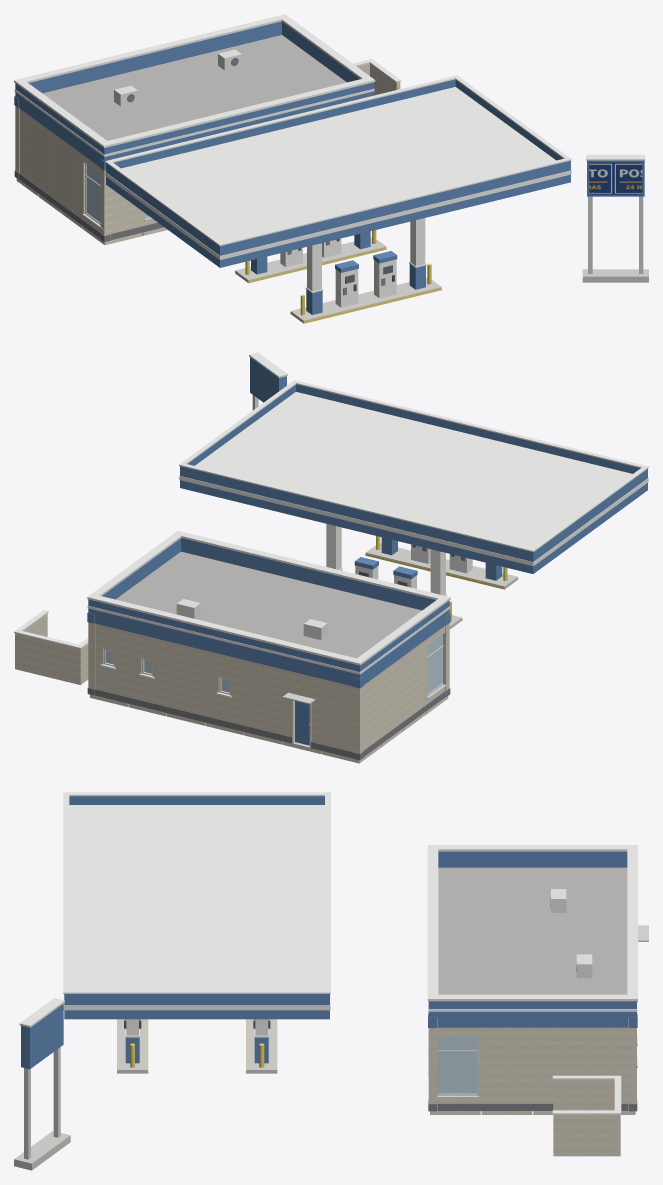
The model's file is building_assembled.glb.
The picture shows the model from 3 angles, top to bottom: view 1: azimuth 30°, elevation 25°; view 2: azimuth 150°, elevation 25°; view 3: azimuth 270°, elevation 25°; orthographic projection. The views are drawn at different scales.
Parts seen in each view (by area): view 1: building_trim, building_band, building_roof, building_block, building_concrete, building_pump, building_sign, building_dark, building_bollard, building_alu, building_metal, building_glass (+1 smaller); view 2: building_trim, building_band, building_block, building_roof, building_dark, building_concrete, building_plaster, building_glass, building_pump, building_metal, building_door; view 3: building_trim, building_roof, building_band, building_block, building_concrete, building_glass, building_alu, building_dark, building_metal, building_plaster.
Part boxes in pixels (x1,y1,x2,y2): building_trim: (14,14,645,293); building_band: (14,21,644,314); building_roof: (43,35,346,140); building_block: (15,63,400,239); building_concrete: (19,179,648,322); building_pump: (280,238,396,307); building_sign: (589,162,642,194); building_dark: (14,58,385,295); building_bollard: (235,230,441,323); building_alu: (82,163,643,273); building_metal: (114,49,241,106); building_glass: (86,164,148,222); building_trim: (14,352,648,697); building_band: (87,357,647,688); building_block: (15,613,449,753); building_roof: (116,551,421,658); building_dark: (87,547,464,760); building_concrete: (244,543,517,758); building_plaster: (90,694,448,763); building_glass: (105,634,442,693); building_pump: (355,544,472,588); building_metal: (176,599,327,725); building_door: (295,701,309,745); building_trim: (19,792,637,1114); building_roof: (438,867,627,994); building_band: (21,796,637,1069); building_block: (428,1017,636,1156); building_concrete: (14,1019,277,1170); building_glass: (437,1036,476,1093); building_alu: (24,925,648,1159); building_dark: (125,897,637,1111); building_metal: (551,889,592,978); building_plaster: (430,1111,635,1114).
Bounding box in the file's own units: 21.68 × 6.28 × 24.6.
21 materials, 3 textured.
